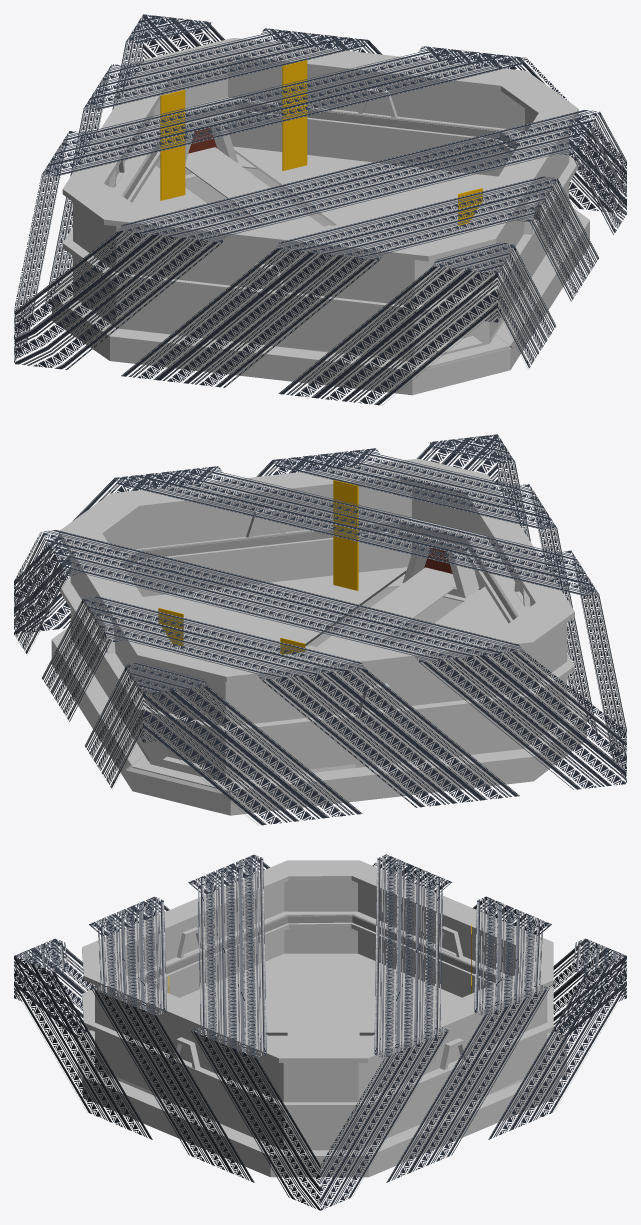
The model's file is LobbyMocaad_Mod.fbx.
3 views of the same model, one above another, from view 1: azimuth 30°, elevation 25°; view 2: azimuth 150°, elevation 25°; view 3: azimuth 270°, elevation 25° (orthographic). The views are drawn at different scales.
Parts seen in each view (by area): view 1: Cinta3, Cinta1, Cinta2, Cinta, walls66, WoodFloorIslans1, walls54, Cinta4, walls61, walls70, walls57, walls (+21 smaller); view 2: Cinta2, Cinta4, Cinta3, Cinta5, walls65, walls (×2), Cinta1, WoodFloorIslans1, walls56, walls63, walls59, walls52 (+21 smaller); view 3: Cinta3, Cinta2, Cinta1, Cinta4, WoodFloorIslans, walls, walls70, Cinta5, Cinta, walls52, walls01, walls59 (+19 smaller).
Part boxes in pixels (left/top/right/bottom): Cinta3: left=15, top=110, right=626, bottom=369; Cinta1: left=121, top=176, right=598, bottom=387; Cinta2: left=14, top=46, right=626, bottom=362; Cinta: left=278, top=242, right=555, bottom=405; walls66: left=104, top=210, right=428, bottom=395; WoodFloorIslans1: left=233, top=146, right=520, bottom=340; walls54: left=116, top=280, right=414, bottom=361; Cinta4: left=42, top=28, right=382, bottom=316; walls61: left=116, top=226, right=414, bottom=306; walls70: left=469, top=108, right=589, bottom=369; walls57: left=228, top=61, right=524, bottom=130; walls: left=234, top=38, right=526, bottom=169; Cinta2: left=14, top=530, right=625, bottom=789; Cinta4: left=42, top=596, right=519, bottom=807; Cinta3: left=14, top=466, right=626, bottom=782; Cinta5: left=84, top=662, right=362, bottom=825; walls65: left=226, top=630, right=533, bottom=815; walls (×2): left=51, top=531, right=225, bottom=790; Cinta1: left=256, top=448, right=597, bottom=735; WoodFloorIslans1: left=120, top=567, right=407, bottom=760; walls56: left=225, top=702, right=523, bottom=781; walls63: left=225, top=648, right=523, bottom=726; walls59: left=115, top=482, right=411, bottom=550; walls52: left=129, top=537, right=411, bottom=596; Cinta3: left=188, top=854, right=320, bottom=1210; Cinta2: left=320, top=854, right=451, bottom=1210; Cinta1: left=89, top=896, right=254, bottom=1182; Cinta4: left=386, top=896, right=551, bottom=1182; WoodFloorIslans: left=180, top=953, right=461, bottom=1035; walls: left=353, top=973, right=559, bottom=1176; walls70: left=82, top=974, right=287, bottom=1176; Cinta5: left=488, top=938, right=626, bottom=1139; Cinta: left=14, top=938, right=152, bottom=1139; walls52: left=95, top=1032, right=283, bottom=1150; walls01: left=358, top=1034, right=547, bottom=1149; walls59: left=95, top=985, right=283, bottom=1101.
Size of the model in its own units: 6088 by 1394 by 6101.
